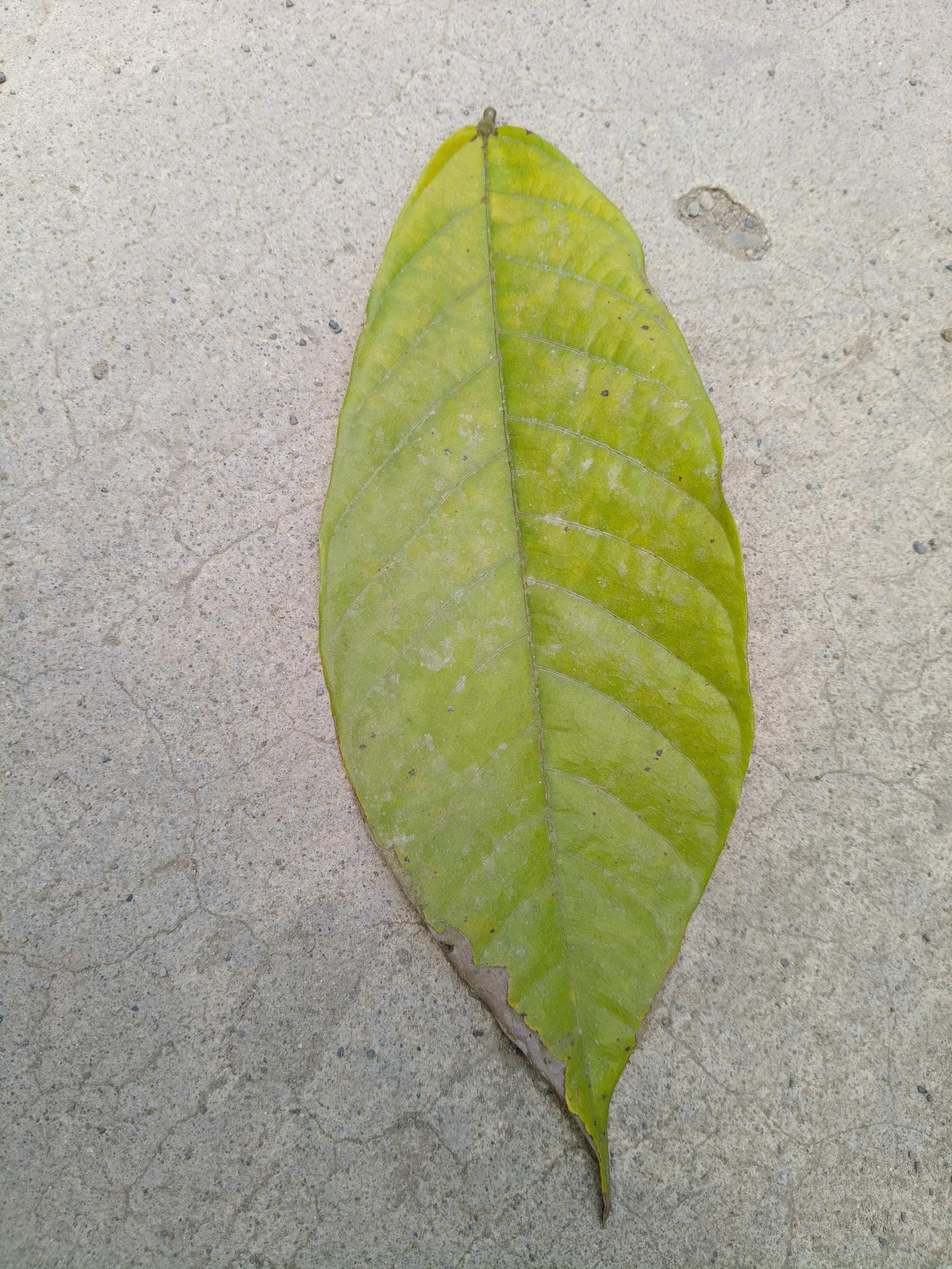Fosforo: (302, 109, 766, 1244)
